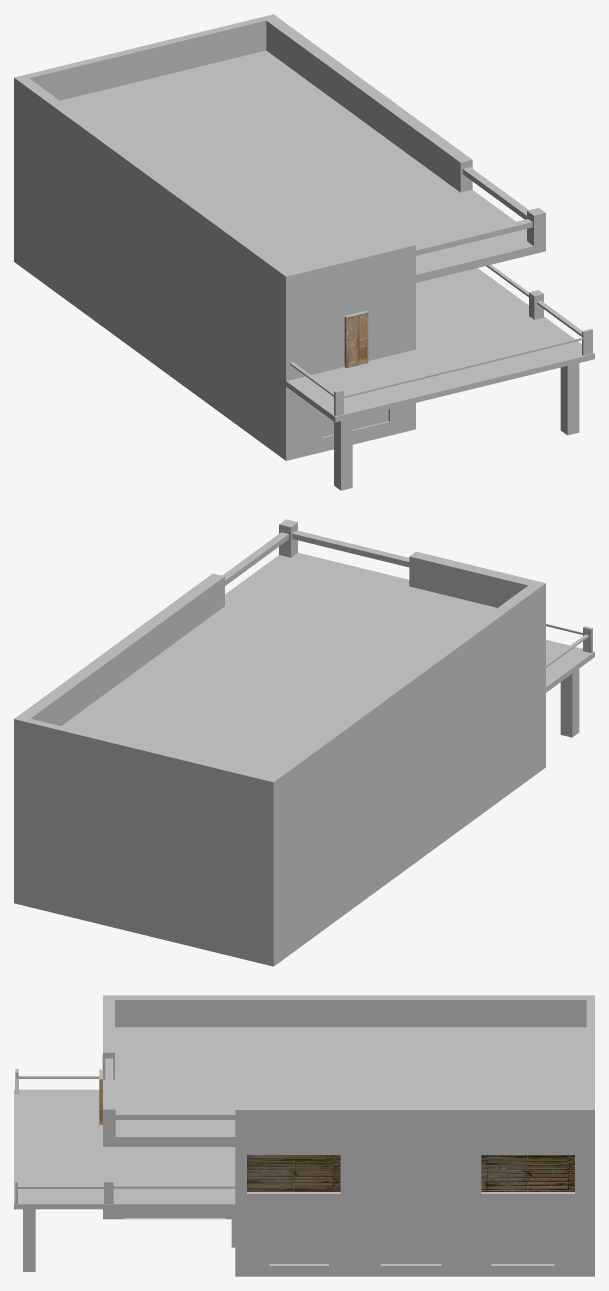
File: buldeng  1.fbx
3 renders of one model, top to bottom at view 1: azimuth 30°, elevation 25°; view 2: azimuth 150°, elevation 25°; view 3: azimuth 270°, elevation 25°, orthographic. The views are drawn at different scales.
Parts seen in each view (by area): view 1: Cube; view 2: Cube; view 3: Cube.
Boxes of the visible parts, box(x1,y1,x2,y2) form: Cube: box(14, 14, 594, 490); Cube: box(14, 519, 594, 966); Cube: box(14, 995, 594, 1276).
Bounding box in the file's own units: 352 × 240 × 755.
